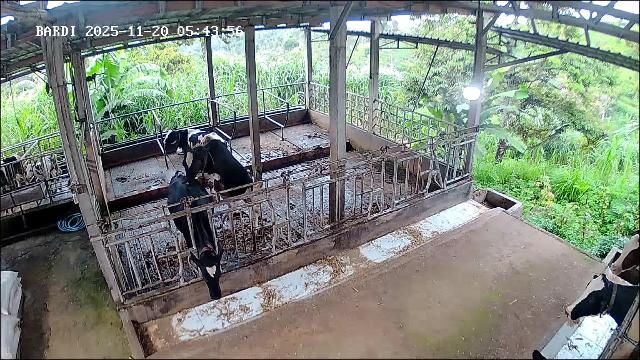mounting: (179, 139, 261, 234)
